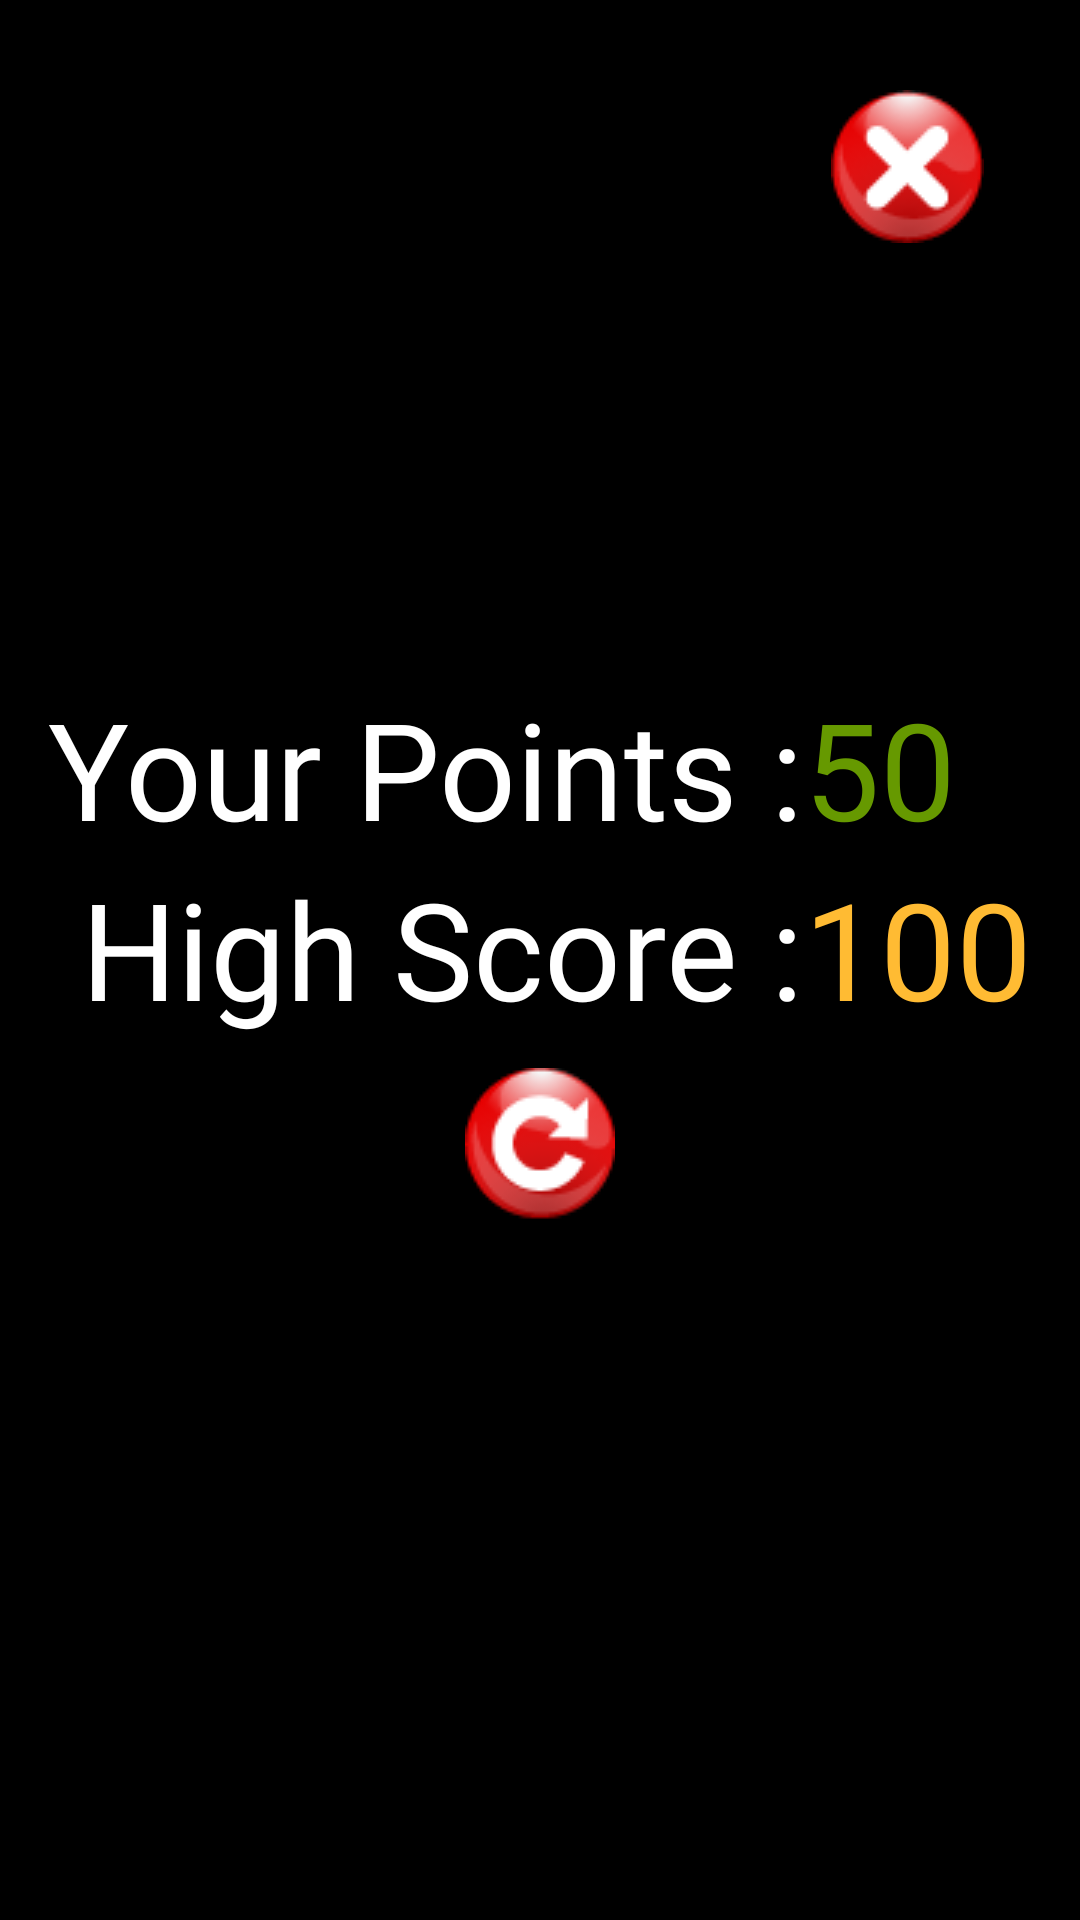

Locate icon controls on the screen. Image size 1080*1920, boxes as (x1,y1,x2,y2).
Close Button: (831,90,984,243)
Restart button: (465,1068,615,1219)
